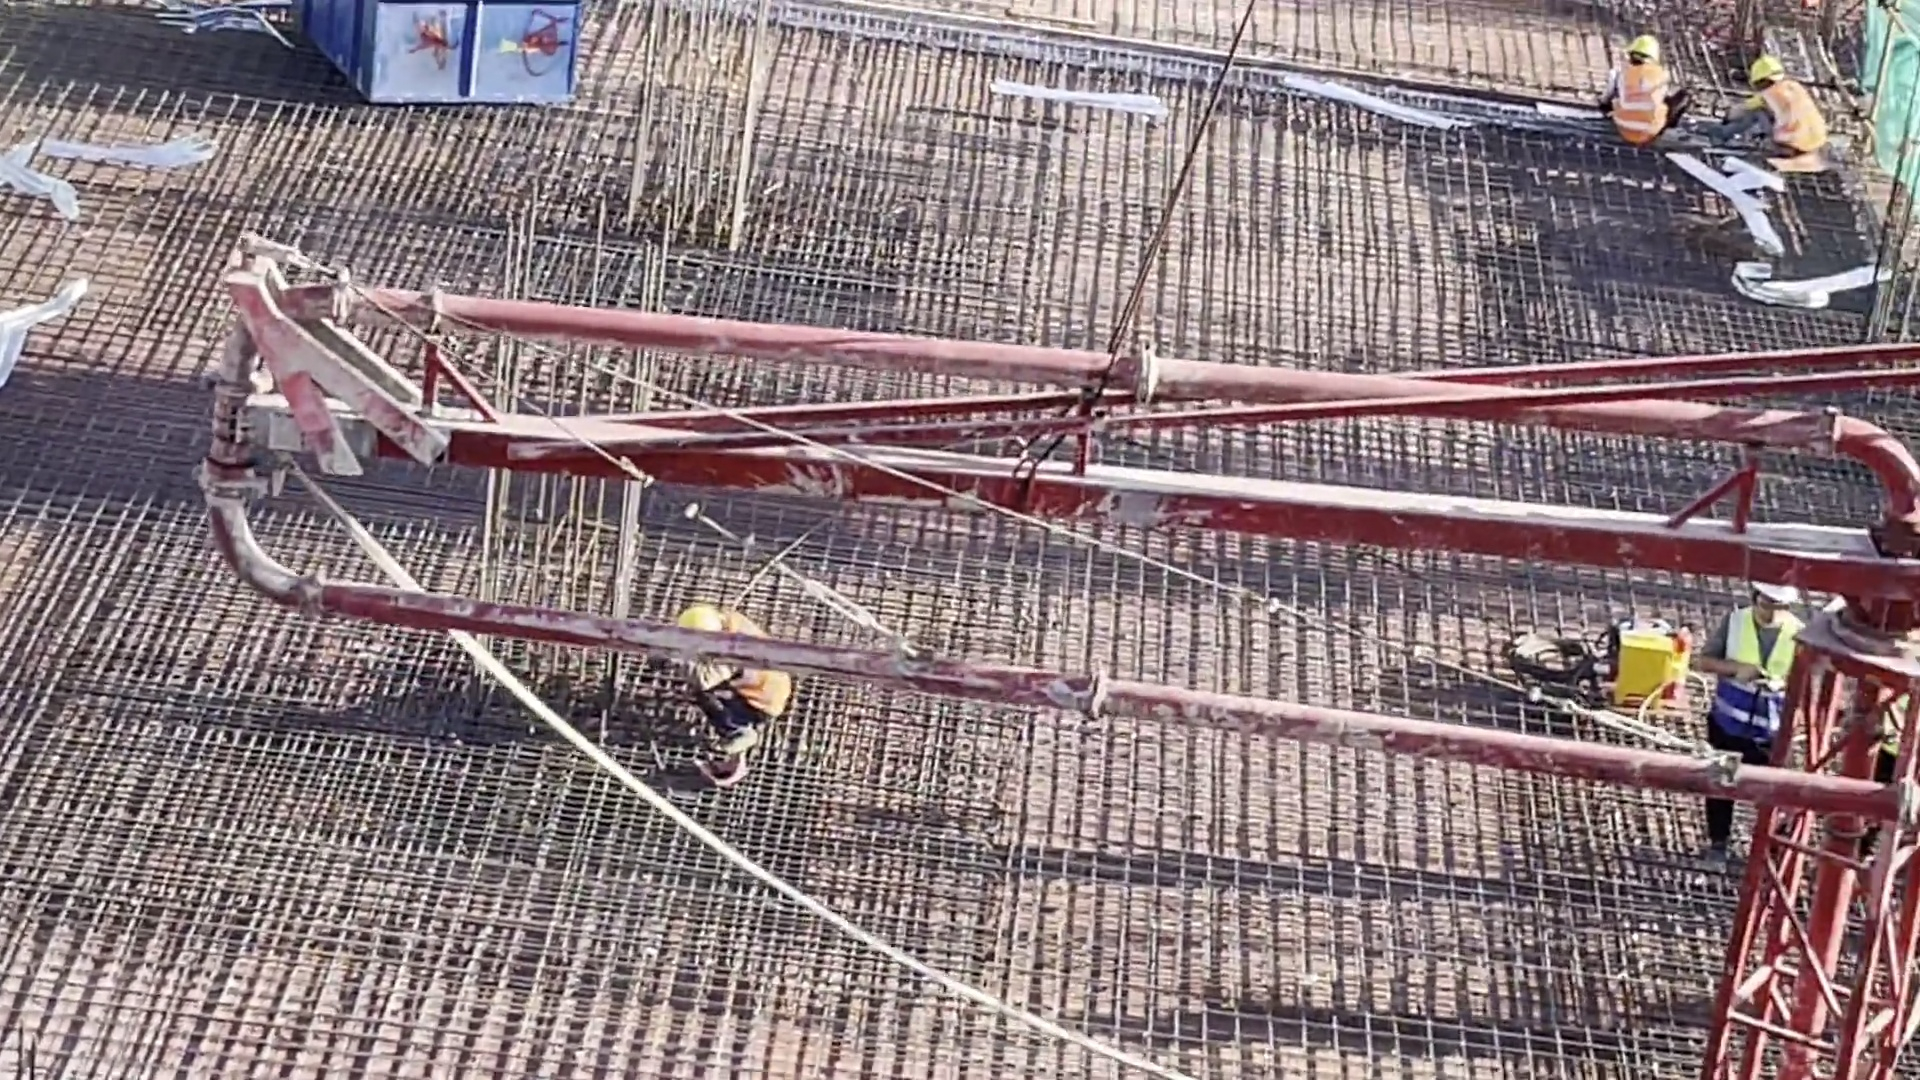helmet: (1748, 44, 1790, 79), (677, 609, 724, 636), (1757, 587, 1804, 609), (1630, 37, 1661, 64)
hopper: (334, 1, 584, 108)
person: (1701, 582, 1806, 871), (659, 598, 800, 806), (1697, 46, 1828, 175), (1597, 37, 1681, 148)
vest: (1724, 633, 1801, 749), (1758, 81, 1827, 161), (725, 644, 792, 725), (1617, 74, 1673, 145)
